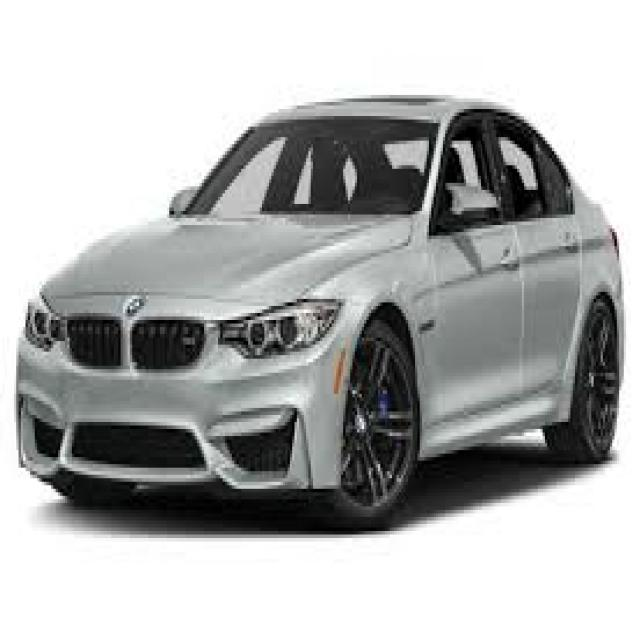Car: (14, 92, 630, 526)
